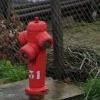a fire hydrant: (20, 21, 52, 86)
